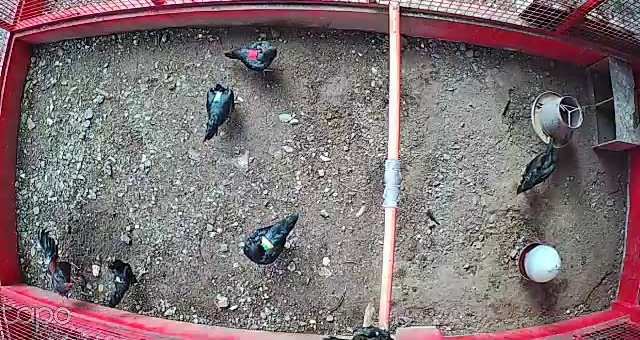Chicken: (236, 212, 302, 267), (513, 133, 561, 196), (107, 253, 150, 318), (223, 33, 281, 80), (202, 80, 239, 144)
Rooster: (35, 223, 83, 300)
Saddle_Color_Red: (248, 50, 263, 61)
Saddle_Color_Yellow: (115, 277, 125, 283)
Saddle_Color_YellowGreen: (261, 235, 277, 254)
